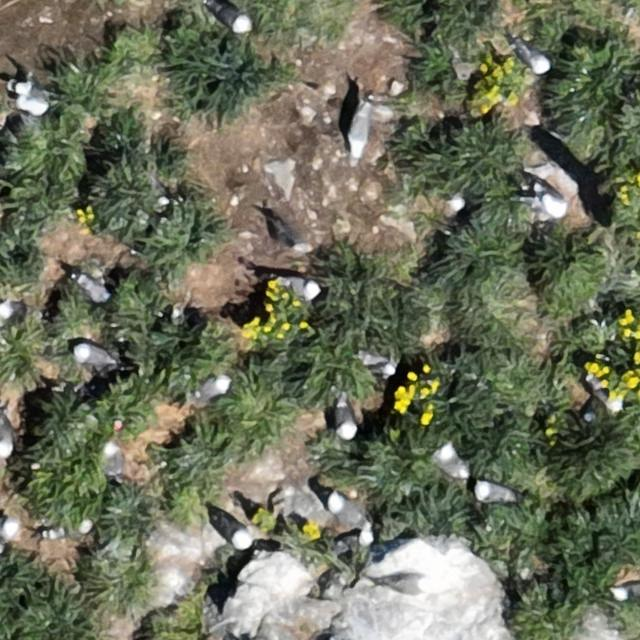umineko: (8, 68, 50, 118), (216, 507, 253, 552), (347, 108, 373, 161), (536, 185, 569, 220), (210, 4, 250, 32), (436, 446, 466, 478), (377, 577, 433, 594), (518, 44, 549, 74), (272, 219, 302, 249), (282, 277, 320, 300), (46, 521, 91, 539), (78, 277, 109, 303), (335, 400, 356, 438), (73, 344, 110, 365), (474, 482, 511, 502), (329, 495, 358, 520), (196, 376, 228, 398), (362, 354, 395, 374), (0, 416, 13, 457), (106, 446, 122, 478), (613, 582, 640, 600), (1, 300, 22, 320), (2, 517, 19, 540)
